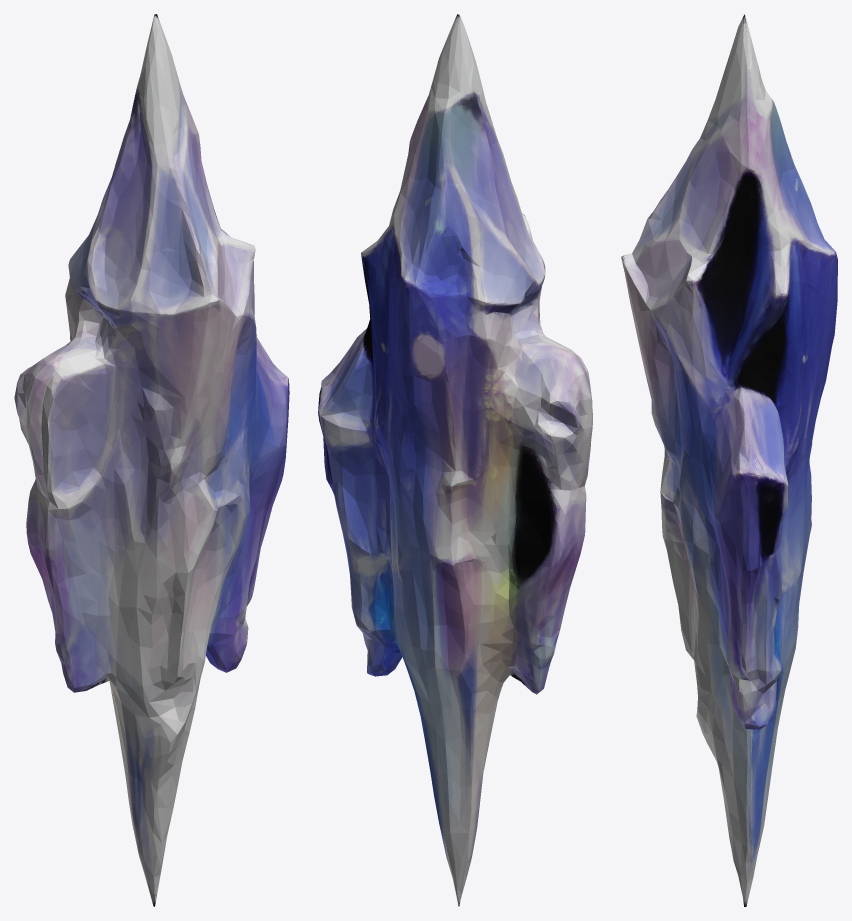
Rendered from env-floating-crystals.glb.
3 renders of one model, left to right at view 1: azimuth 30°, elevation 25°; view 2: azimuth 150°, elevation 25°; view 3: azimuth 270°, elevation 25°, orthographic.
Parts seen in each view (by area): view 1: world; view 2: world; view 3: world.
Boxes of the visible parts, box(x1,y1,x2,y2) form: world: box(14, 14, 289, 906); world: box(318, 14, 592, 906); world: box(621, 14, 837, 906).
Size of the model in its own units: 0.31 by 0.9992 by 0.22.
1 material, 1 textured.
